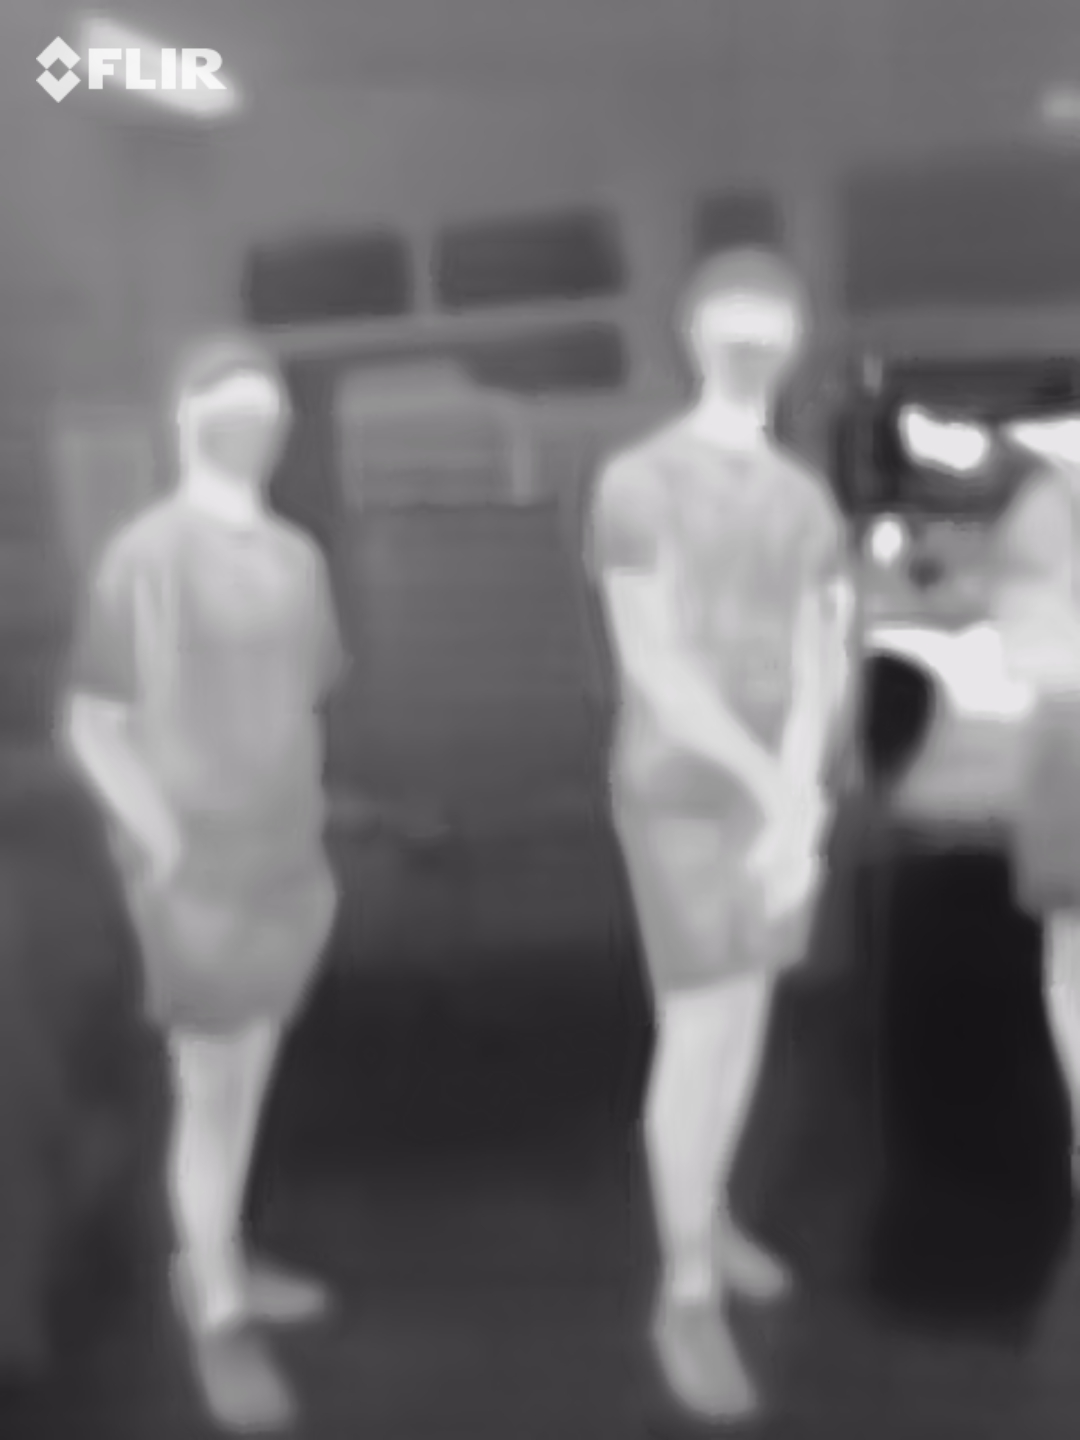head: (673, 244, 813, 416), (162, 331, 297, 491)
